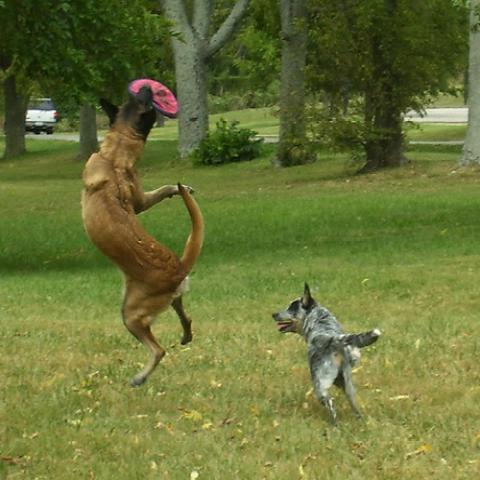truck: (25, 98, 58, 135)
